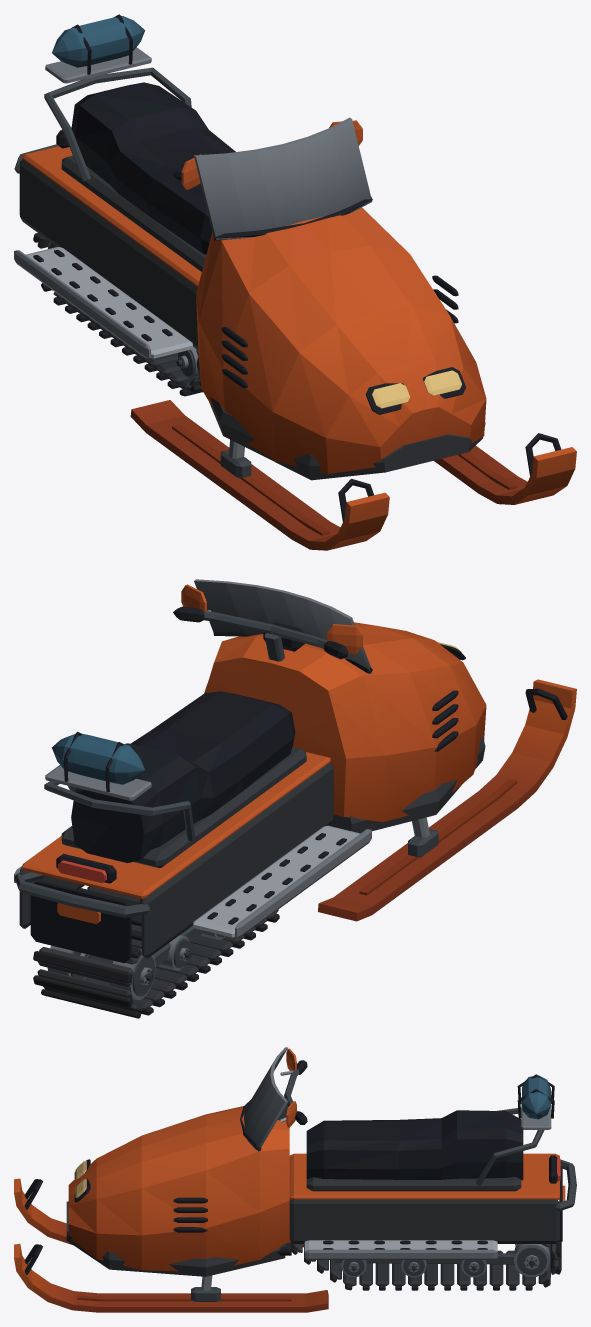
File: arctic-snowmobile.glb
The picture shows the model from 3 angles, top to bottom: view 1: azimuth 30°, elevation 25°; view 2: azimuth 150°, elevation 25°; view 3: azimuth 270°, elevation 25°; orthographic projection. The views are drawn at different scales.
Visible parts, largest first — view 1: arctic_snowmobile; view 2: arctic_snowmobile; view 3: arctic_snowmobile.
Boxes of the visible parts, bbox=[...] form: arctic_snowmobile: bbox=[14, 14, 576, 550]; arctic_snowmobile: bbox=[14, 579, 576, 1018]; arctic_snowmobile: bbox=[14, 1047, 576, 1312].
Bounding box in the file's own units: 0.87 × 1.03 × 2.62.
